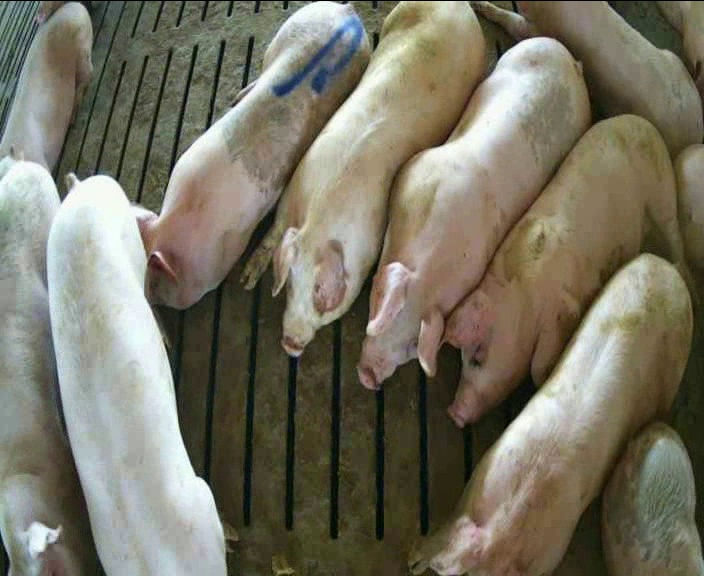pig: (410, 254, 691, 573), (244, 3, 485, 354), (358, 38, 589, 388), (445, 115, 700, 426), (132, 2, 368, 308), (48, 173, 224, 574), (470, 1, 701, 154), (0, 2, 92, 181), (602, 422, 703, 574)
